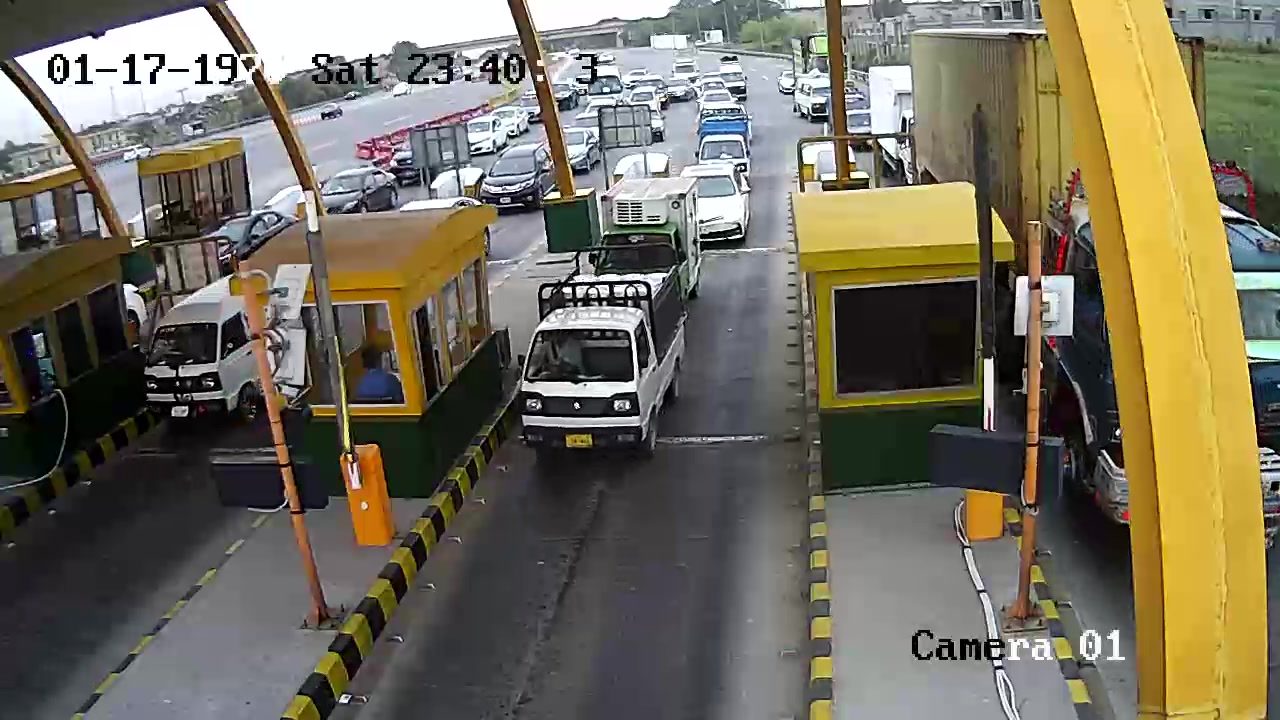F1: (515, 240, 693, 473)
